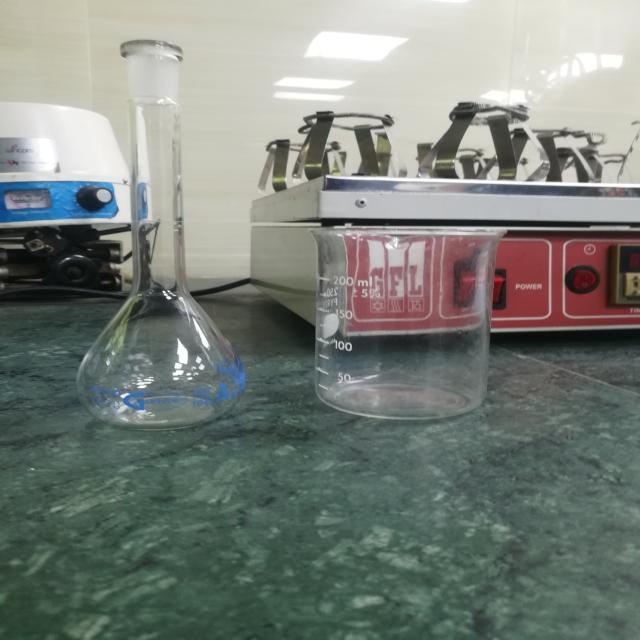Beaker: (295, 191, 526, 440)
Volumetric_Flask: (50, 11, 273, 432)
